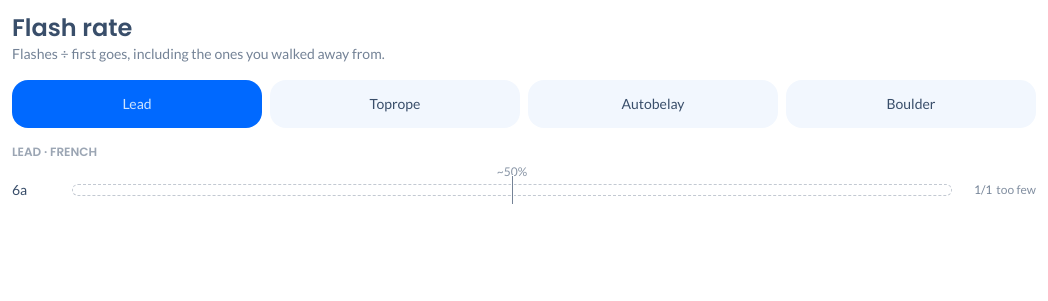
Test: FlashScreen — the default pane › never shows an empty pane while any data exists
Expected: the heading "Flash rate" is shown, top-left (12, 11), bottom-right (132, 44)
Click the button "Lead" at (137, 104), box top-left (12, 80), bottom-right (262, 128)
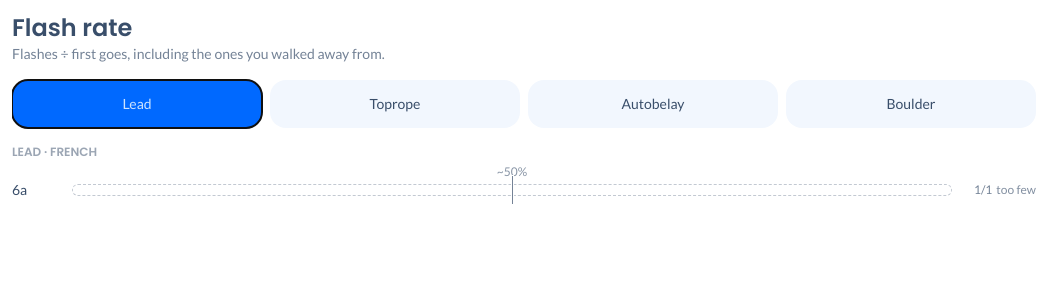
Expected: the list item is shown, top-left (12, 176), bottom-right (1036, 204)
Click the button "Toprope" at (395, 104), box top-left (270, 80), bottom-right (520, 128)
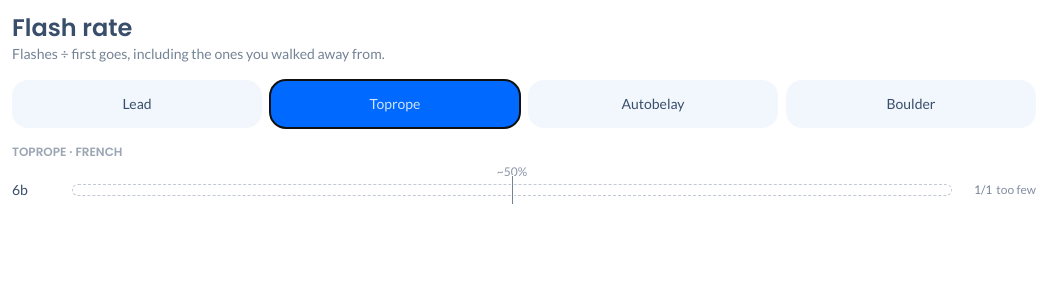
Expected: the list item is shown, top-left (12, 176), bottom-right (1036, 204)
Click the button "Autobelay" at (653, 104), box top-left (528, 80), bottom-right (778, 128)
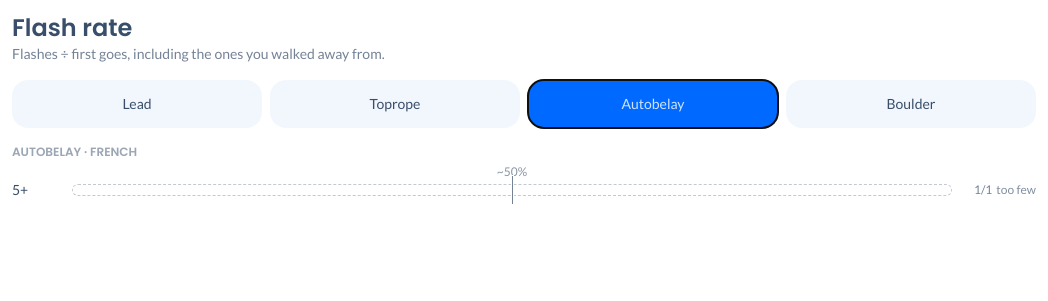
Expected: the list item is shown, top-left (12, 176), bottom-right (1036, 204)
Click the button "Boulder" at (911, 104), box top-left (786, 80), bottom-right (1036, 128)
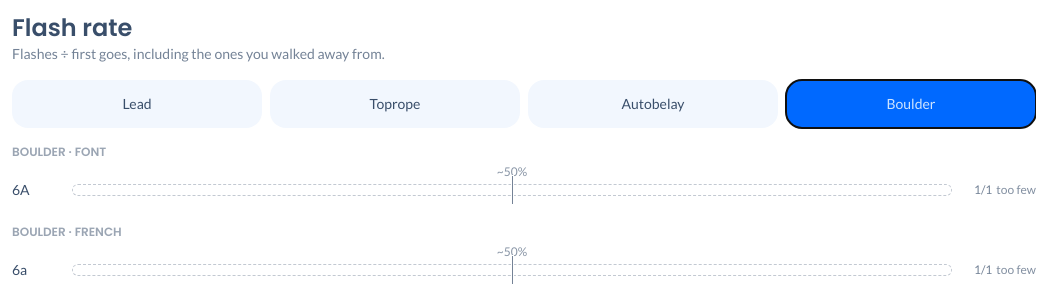
Expected: the list item "6A 1/1too few" is shown, top-left (12, 176), bottom-right (1036, 204)
Expected: the list item "6a 1/1too few" is shown, top-left (12, 256), bottom-right (1036, 284)
